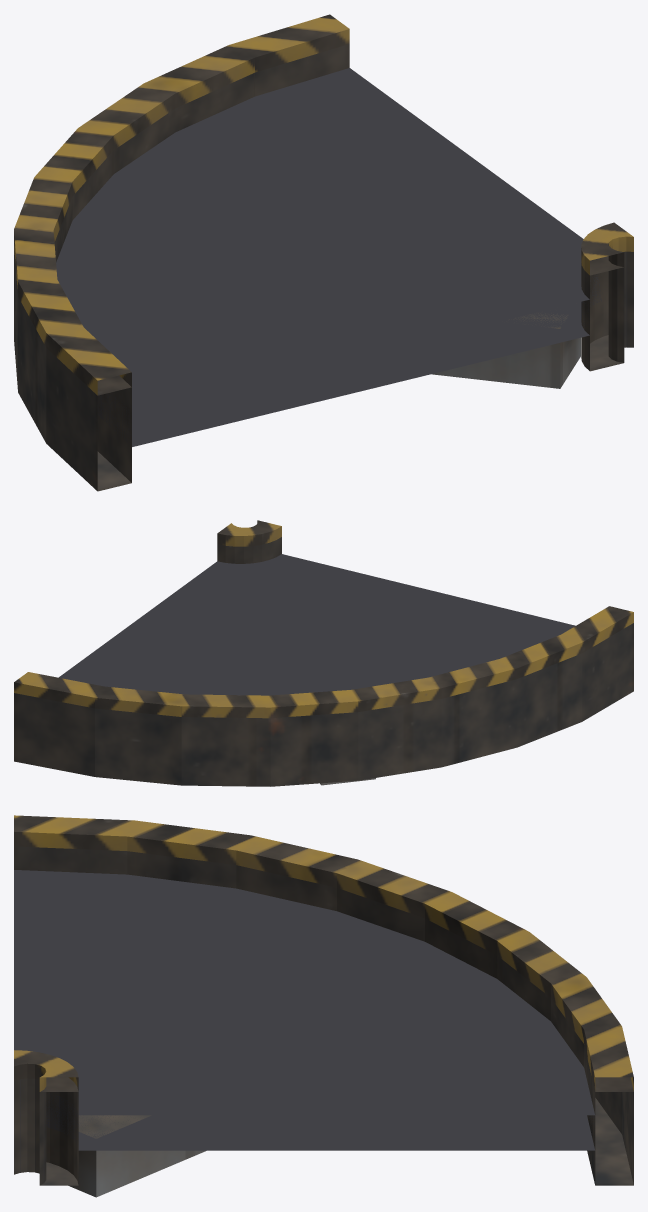
Rendered from esteira_curva_dir.glb.
The picture shows the model from 3 angles, top to bottom: view 1: azimuth 30°, elevation 25°; view 2: azimuth 150°, elevation 25°; view 3: azimuth 270°, elevation 25°; orthographic projection. The views are drawn at different scales.
Parts seen in each view (by area): view 1: esteira_curva_dir; view 2: esteira_curva_dir; view 3: esteira_curva_dir.
Part boxes in pixels (left/top/right/bottom): esteira_curva_dir: left=14, top=14, right=633, bottom=491; esteira_curva_dir: left=14, top=520, right=633, bottom=786; esteira_curva_dir: left=14, top=815, right=633, bottom=1197.
Bounding box in the file's own units: 0.96 × 0.225 × 0.96.
Materials: 2 (1 with a texture image).
